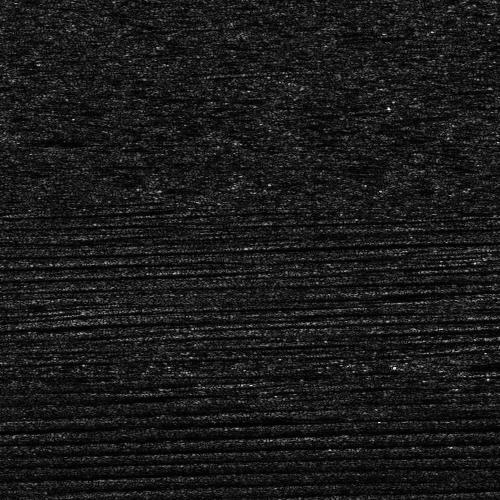object: (384, 360, 467, 369)
shadow: (426, 360, 500, 369)
